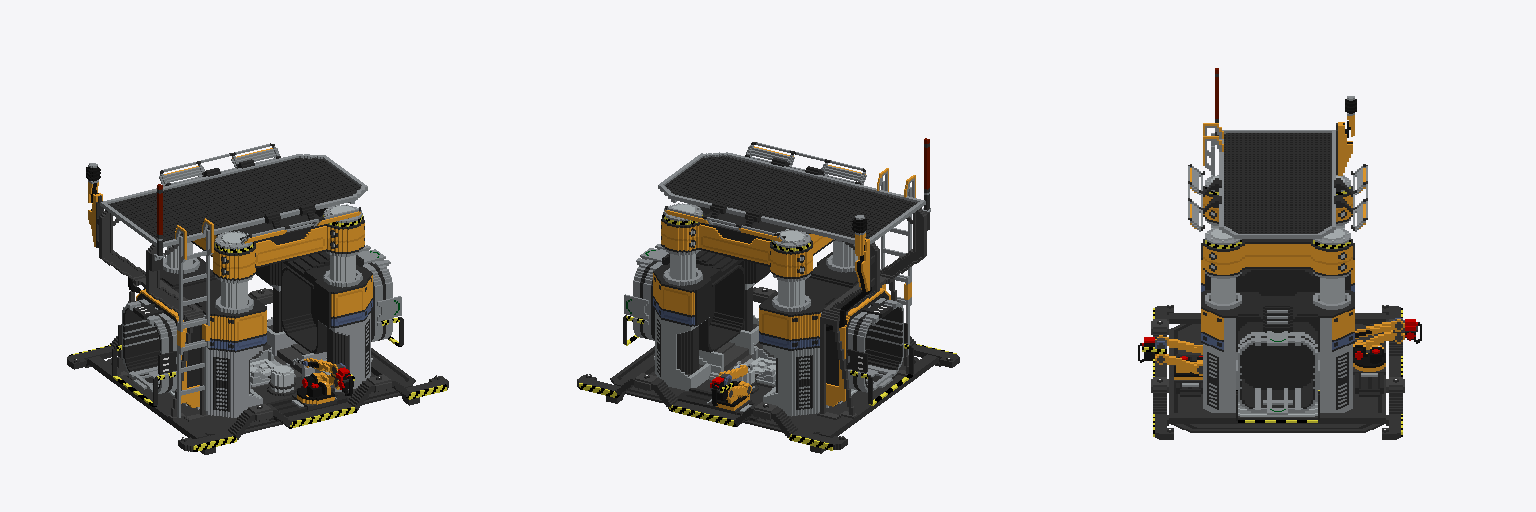
3 views of the same model, side by side, from view 1: azimuth 30°, elevation 25°; view 2: azimuth 150°, elevation 25°; view 3: azimuth 270°, elevation 25° (orthographic).
Parts seen in each view (by area): view 1: object 1; view 2: object 1; view 3: object 1.
Part boxes in pixels (left/top/right/bottom): object 1: left=67, top=143, right=448, bottom=454; object 1: left=577, top=138, right=959, bottom=453; object 1: left=1138, top=68, right=1421, bottom=439.
Bounding box in the file's own units: 14.7 × 13.2 × 13.6.
Materials: 1 (1 with a texture image).